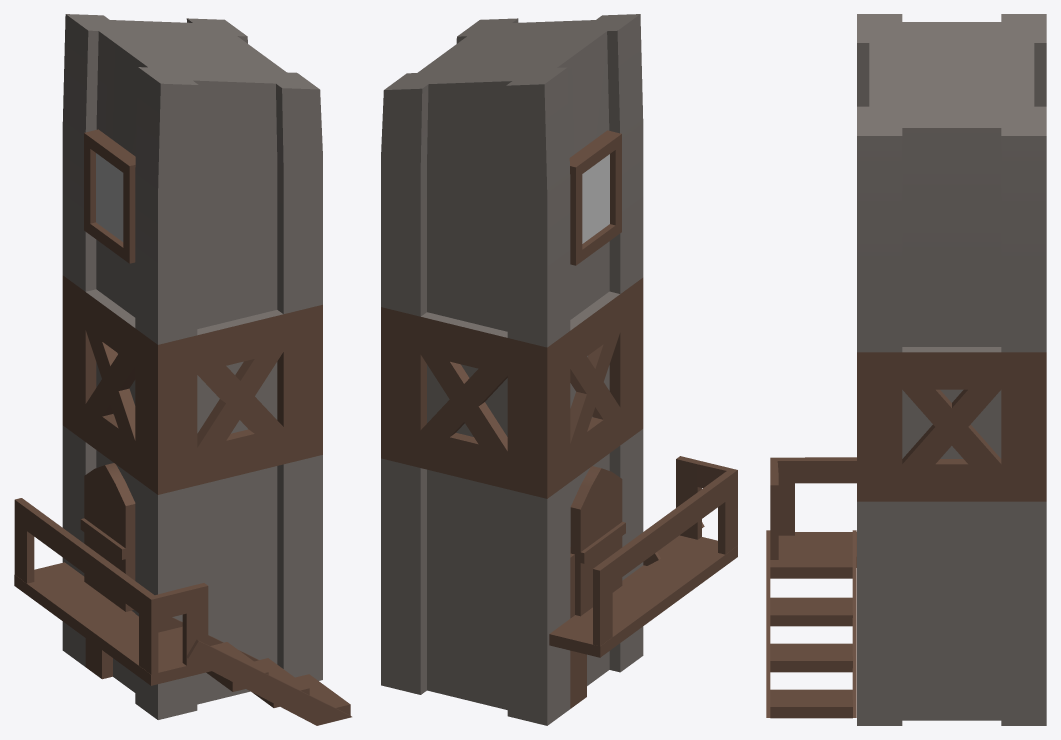
The model's file is tower.fbx.
The picture shows the model from 3 angles, left to right: view 1: azimuth 30°, elevation 25°; view 2: azimuth 150°, elevation 25°; view 3: azimuth 270°, elevation 25°; orthographic projection.
Visible parts, largest first — view 1: pCube1, pCube7, platform, Doors, pCube2, step1, step3, step2; view 2: pCube1, pCube7, platform, Doors; view 3: pCube1, pCube7, platform, step3, step2, step1, pCube2, pCube3.
Part boxes in pixels (left/top/right/bottom): pCube1: left=62, top=14, right=322, bottom=719; pCube7: left=14, top=498, right=208, bottom=674; platform: left=14, top=562, right=211, bottom=685; Doors: left=80, top=463, right=135, bottom=611; pCube2: left=186, top=639, right=351, bottom=725; step1: left=295, top=674, right=350, bottom=715; step3: left=206, top=642, right=268, bottom=691; step2: left=252, top=658, right=309, bottom=707; pCube1: left=381, top=14, right=643, bottom=725; pCube7: left=593, top=456, right=737, bottom=646; platform: left=549, top=535, right=737, bottom=657; Doors: left=570, top=466, right=625, bottom=616; pCube1: left=857, top=14, right=1046, bottom=725; pCube7: left=770, top=457, right=856, bottom=559; platform: left=770, top=532, right=856, bottom=578; step3: left=770, top=597, right=852, bottom=626; step2: left=770, top=643, right=852, bottom=672; step1: left=770, top=689, right=852, bottom=718; pCube2: left=766, top=530, right=770, bottom=717; pCube3: left=852, top=530, right=856, bottom=717.
Size of the model in its own units: 300 by 847 by 340.
